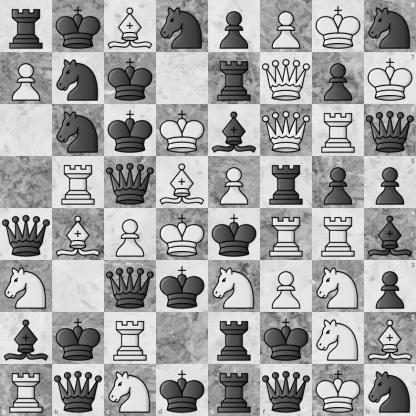B: (364, 312, 416, 364), (53, 209, 104, 260), (105, 1, 156, 52), (157, 157, 208, 208)
K: (312, 364, 364, 416), (364, 52, 416, 104), (157, 105, 208, 156), (157, 209, 208, 260), (313, 1, 364, 52)
N: (104, 364, 156, 416), (1, 261, 52, 312), (209, 261, 260, 312), (313, 261, 364, 312), (313, 313, 364, 364)
P: (1, 53, 52, 104), (105, 209, 156, 260), (209, 157, 260, 208), (261, 1, 312, 52), (261, 261, 312, 312)
Q: (261, 53, 312, 104), (261, 105, 312, 156)
R: (0, 364, 52, 416), (53, 157, 104, 208), (105, 313, 156, 364), (261, 209, 312, 260), (313, 105, 364, 156), (313, 209, 364, 260)
b: (364, 209, 416, 260), (1, 313, 52, 364), (209, 105, 260, 156)
board: (0, 0, 415, 415)
k: (156, 364, 209, 416), (53, 1, 104, 52), (53, 313, 104, 364), (105, 53, 156, 104), (105, 105, 156, 156), (157, 261, 208, 312), (209, 209, 260, 260), (261, 313, 312, 364)
n: (364, 0, 416, 52), (364, 364, 416, 416), (53, 53, 104, 104), (53, 105, 104, 156), (157, 1, 208, 52)
p: (364, 156, 416, 209), (364, 260, 416, 312), (209, 1, 260, 52), (313, 53, 364, 104), (313, 157, 364, 208)
q: (52, 364, 104, 416), (260, 364, 312, 416), (364, 104, 416, 156), (1, 209, 52, 260), (105, 157, 156, 208), (105, 261, 156, 312)
r: (209, 364, 260, 416), (1, 1, 52, 52), (209, 53, 260, 104), (209, 313, 260, 364), (261, 157, 312, 208)
